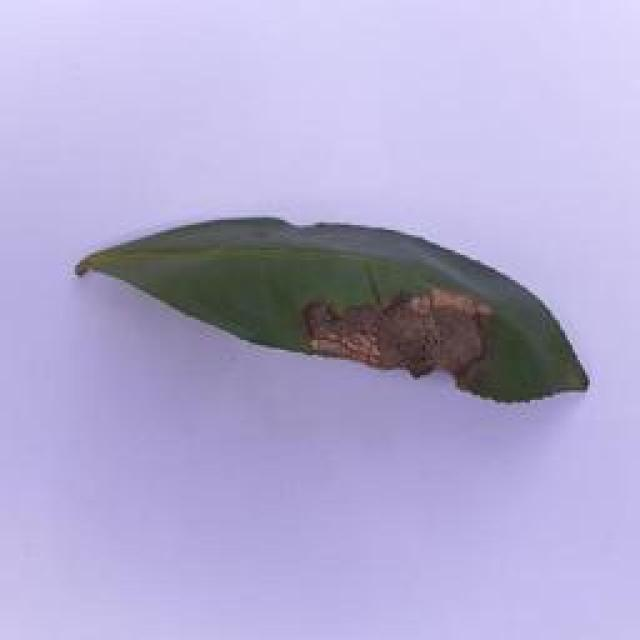Gray Blight: (62, 208, 597, 407)
